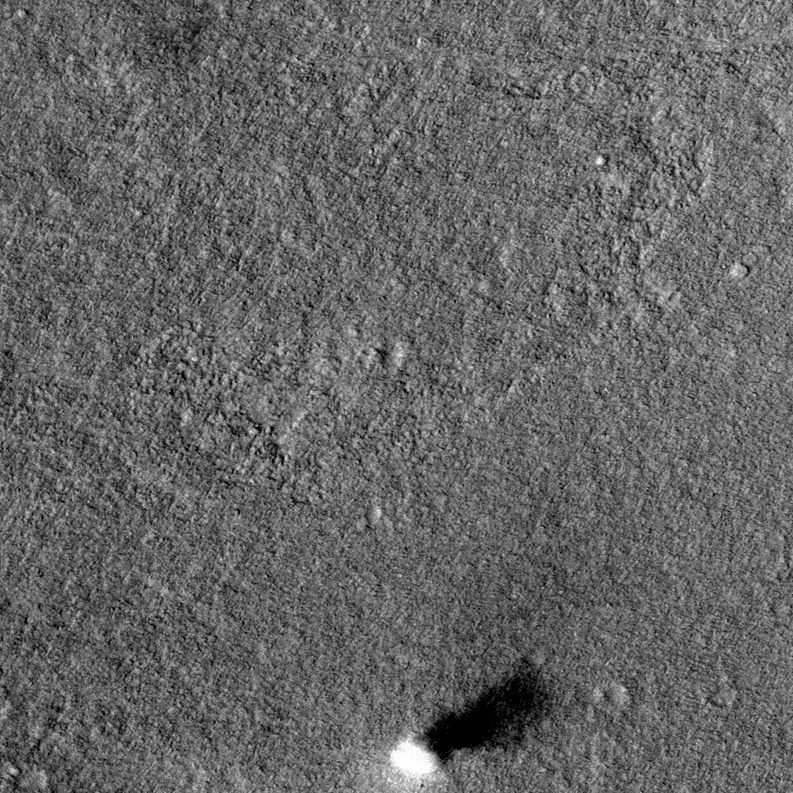dust_devil: (386, 664, 560, 786)
